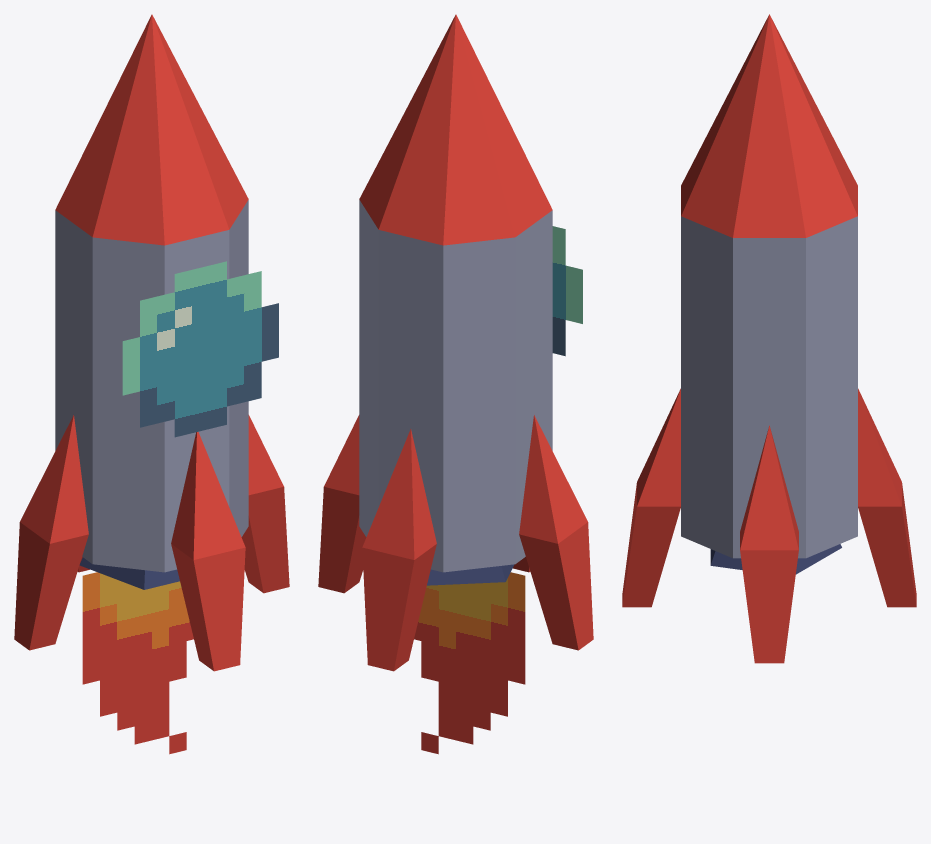
3 renders of one model, left to right at view 1: azimuth 30°, elevation 25°; view 2: azimuth 150°, elevation 25°; view 3: azimuth 270°, elevation 25°, orthographic. The views are drawn at different scales.
Parts seen in each view (by area): view 1: main, legs, tip, window, fire, thruster; view 2: main, legs, tip, fire, window, thruster; view 3: main, legs, tip, thruster.
Part boxes in pixels (<box>): main: <box>55,200,248,572</box>; legs: <box>14,415,289,671</box>; tip: <box>55,14,248,245</box>; window: <box>122,261,278,437</box>; fire: <box>82,572,193,754</box>; thruster: <box>79,557,179,589</box>; main: <box>359,200,552,572</box>; legs: <box>318,415,593,671</box>; tip: <box>359,14,552,245</box>; fire: <box>414,572,525,754</box>; window: <box>552,226,582,356</box>; thruster: <box>427,564,514,585</box>; main: <box>681,216,857,558</box>; legs: <box>622,388,916,663</box>; tip: <box>681,14,857,237</box>; thruster: <box>710,544,841,574</box>.
Size of the model in its own units: 0.9375 by 2.75 by 0.9375.
2 materials, 2 textured.
